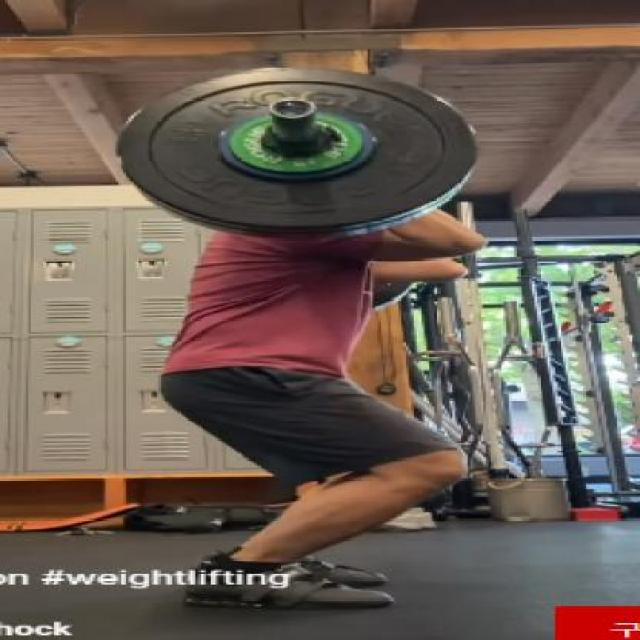Barbell: (268, 94, 324, 123)
